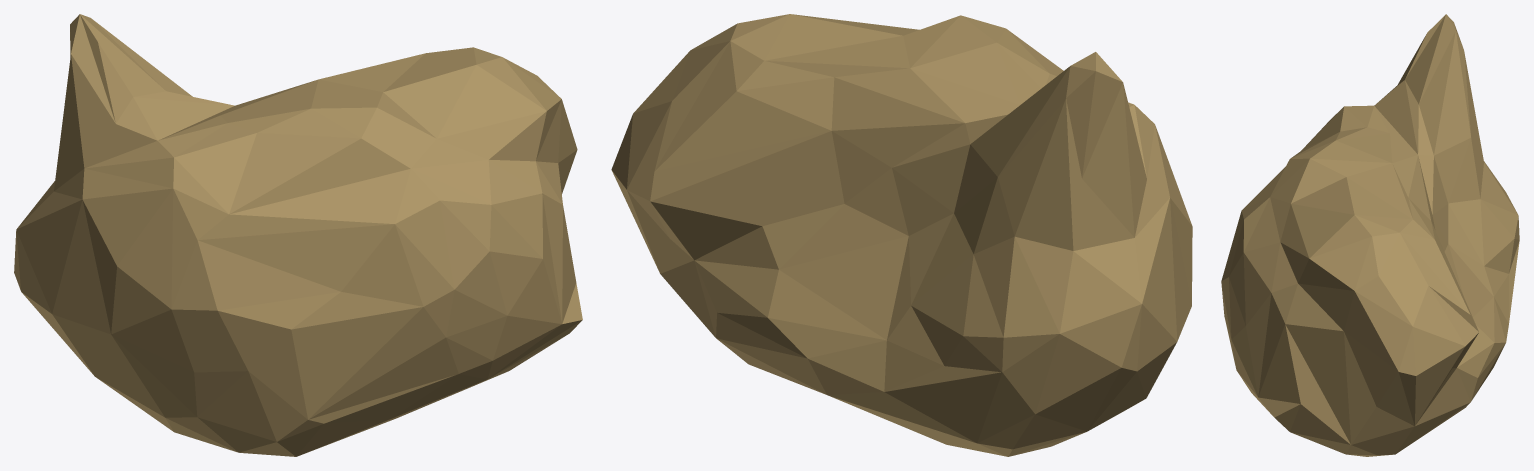
Rendered from PointyRock.fbx.
3 renders of one model, left to right at view 1: azimuth 30°, elevation 25°; view 2: azimuth 150°, elevation 25°; view 3: azimuth 270°, elevation 25°, orthographic. The views are drawn at different scales.
Visible parts, largest first — view 1: pPlatonic1; view 2: pPlatonic1; view 3: pPlatonic1.
Part boxes in pixels (x1,y1,x2,y2): pPlatonic1: [14, 14, 582, 456]; pPlatonic1: [611, 14, 1192, 456]; pPlatonic1: [1221, 14, 1519, 456].
Size of the model in its own units: 7.37 by 5.52 by 4.66.
